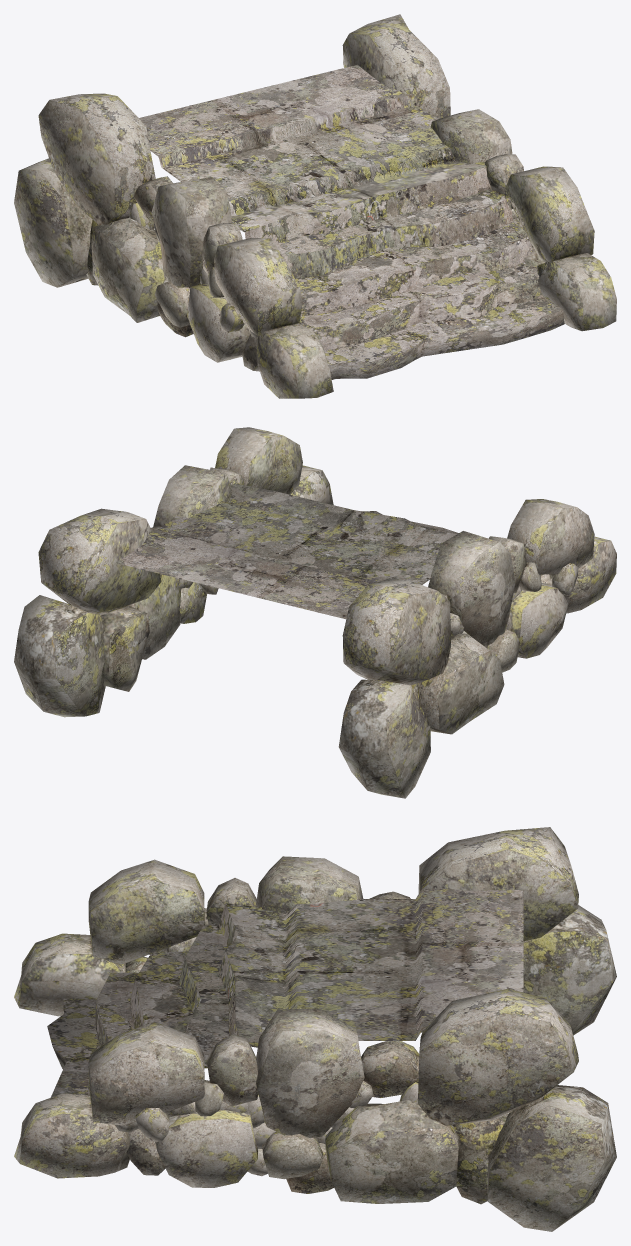
The model's file is stare_a.FBX.
The picture shows the model from 3 angles, top to bottom: view 1: azimuth 30°, elevation 25°; view 2: azimuth 150°, elevation 25°; view 3: azimuth 270°, elevation 25°; orthographic projection. The views are drawn at different scales.
Visible parts, largest first — view 1: Plane001, Box003, Box002; view 2: Box003, Box002, Plane001; view 3: Box002, Plane001, Box003.
Boxes of the visible parts, x1,y1,x2,y2 form: Plane001: (139,64,564,379); Box003: (14,93,333,398); Box002: (342,14,616,331); Box003: (338,499,616,798); Box002: (14,427,333,717); Plane001: (116,483,458,619); Box002: (14,988,616,1231); Plane001: (47,889,523,1097); Box003: (14,827,616,1035).
Bounding box in the file's own units: 91.28 × 43.32 × 110.
